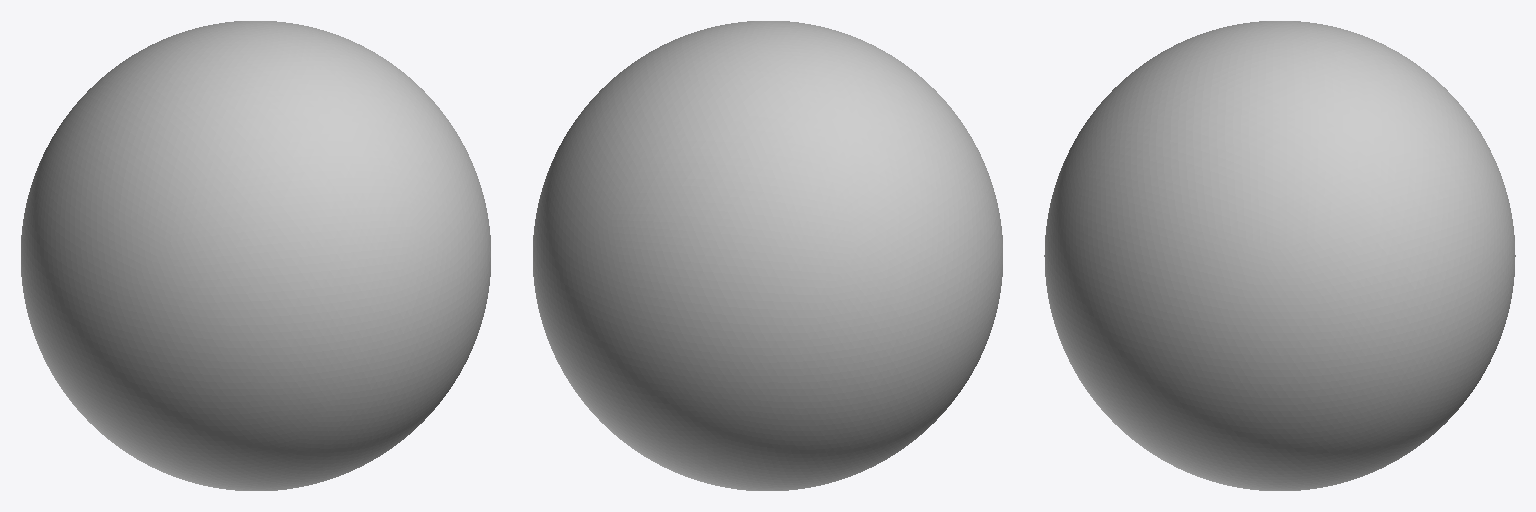
The model's file is moon.obj.
3 renders of one model, left to right at view 1: azimuth 30°, elevation 25°; view 2: azimuth 150°, elevation 25°; view 3: azimuth 270°, elevation 25°, orthographic.
Parts seen in each view (by area): view 1: Icosphere; view 2: Icosphere; view 3: Icosphere.
Part boxes in pixels (x1,y1,x2,y2): Icosphere: (21,21,490,490); Icosphere: (533,21,1002,490); Icosphere: (1044,21,1515,490).
Size of the model in its own units: 3.68 by 3.68 by 3.68.